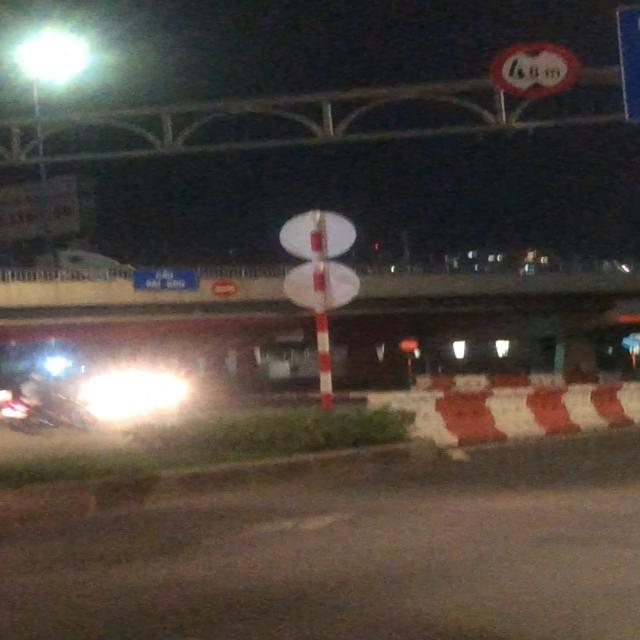Bien bao han che chieu cao: (486, 40, 602, 102)
